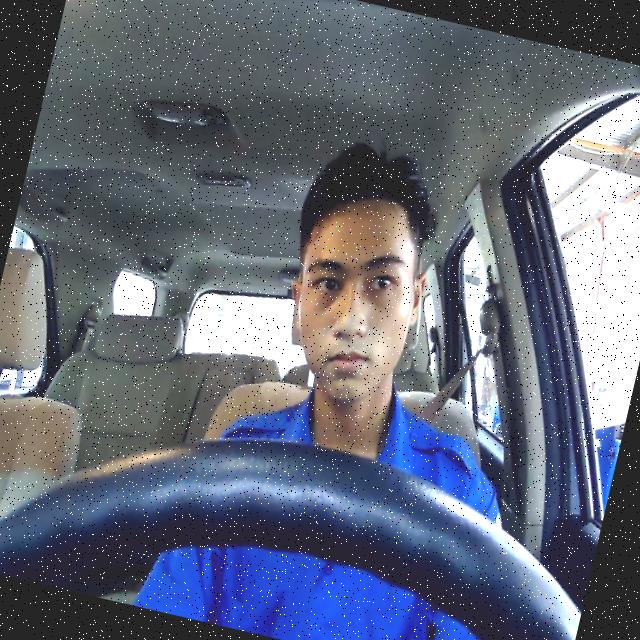focused: (268, 180, 442, 410)
